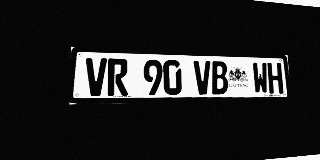0: (163, 60, 182, 95)
9: (144, 59, 163, 95)
B: (211, 61, 228, 94)
H: (267, 63, 283, 94)
R: (107, 58, 128, 96)
V: (85, 58, 107, 96), (193, 61, 212, 95)
W: (252, 62, 269, 94)
